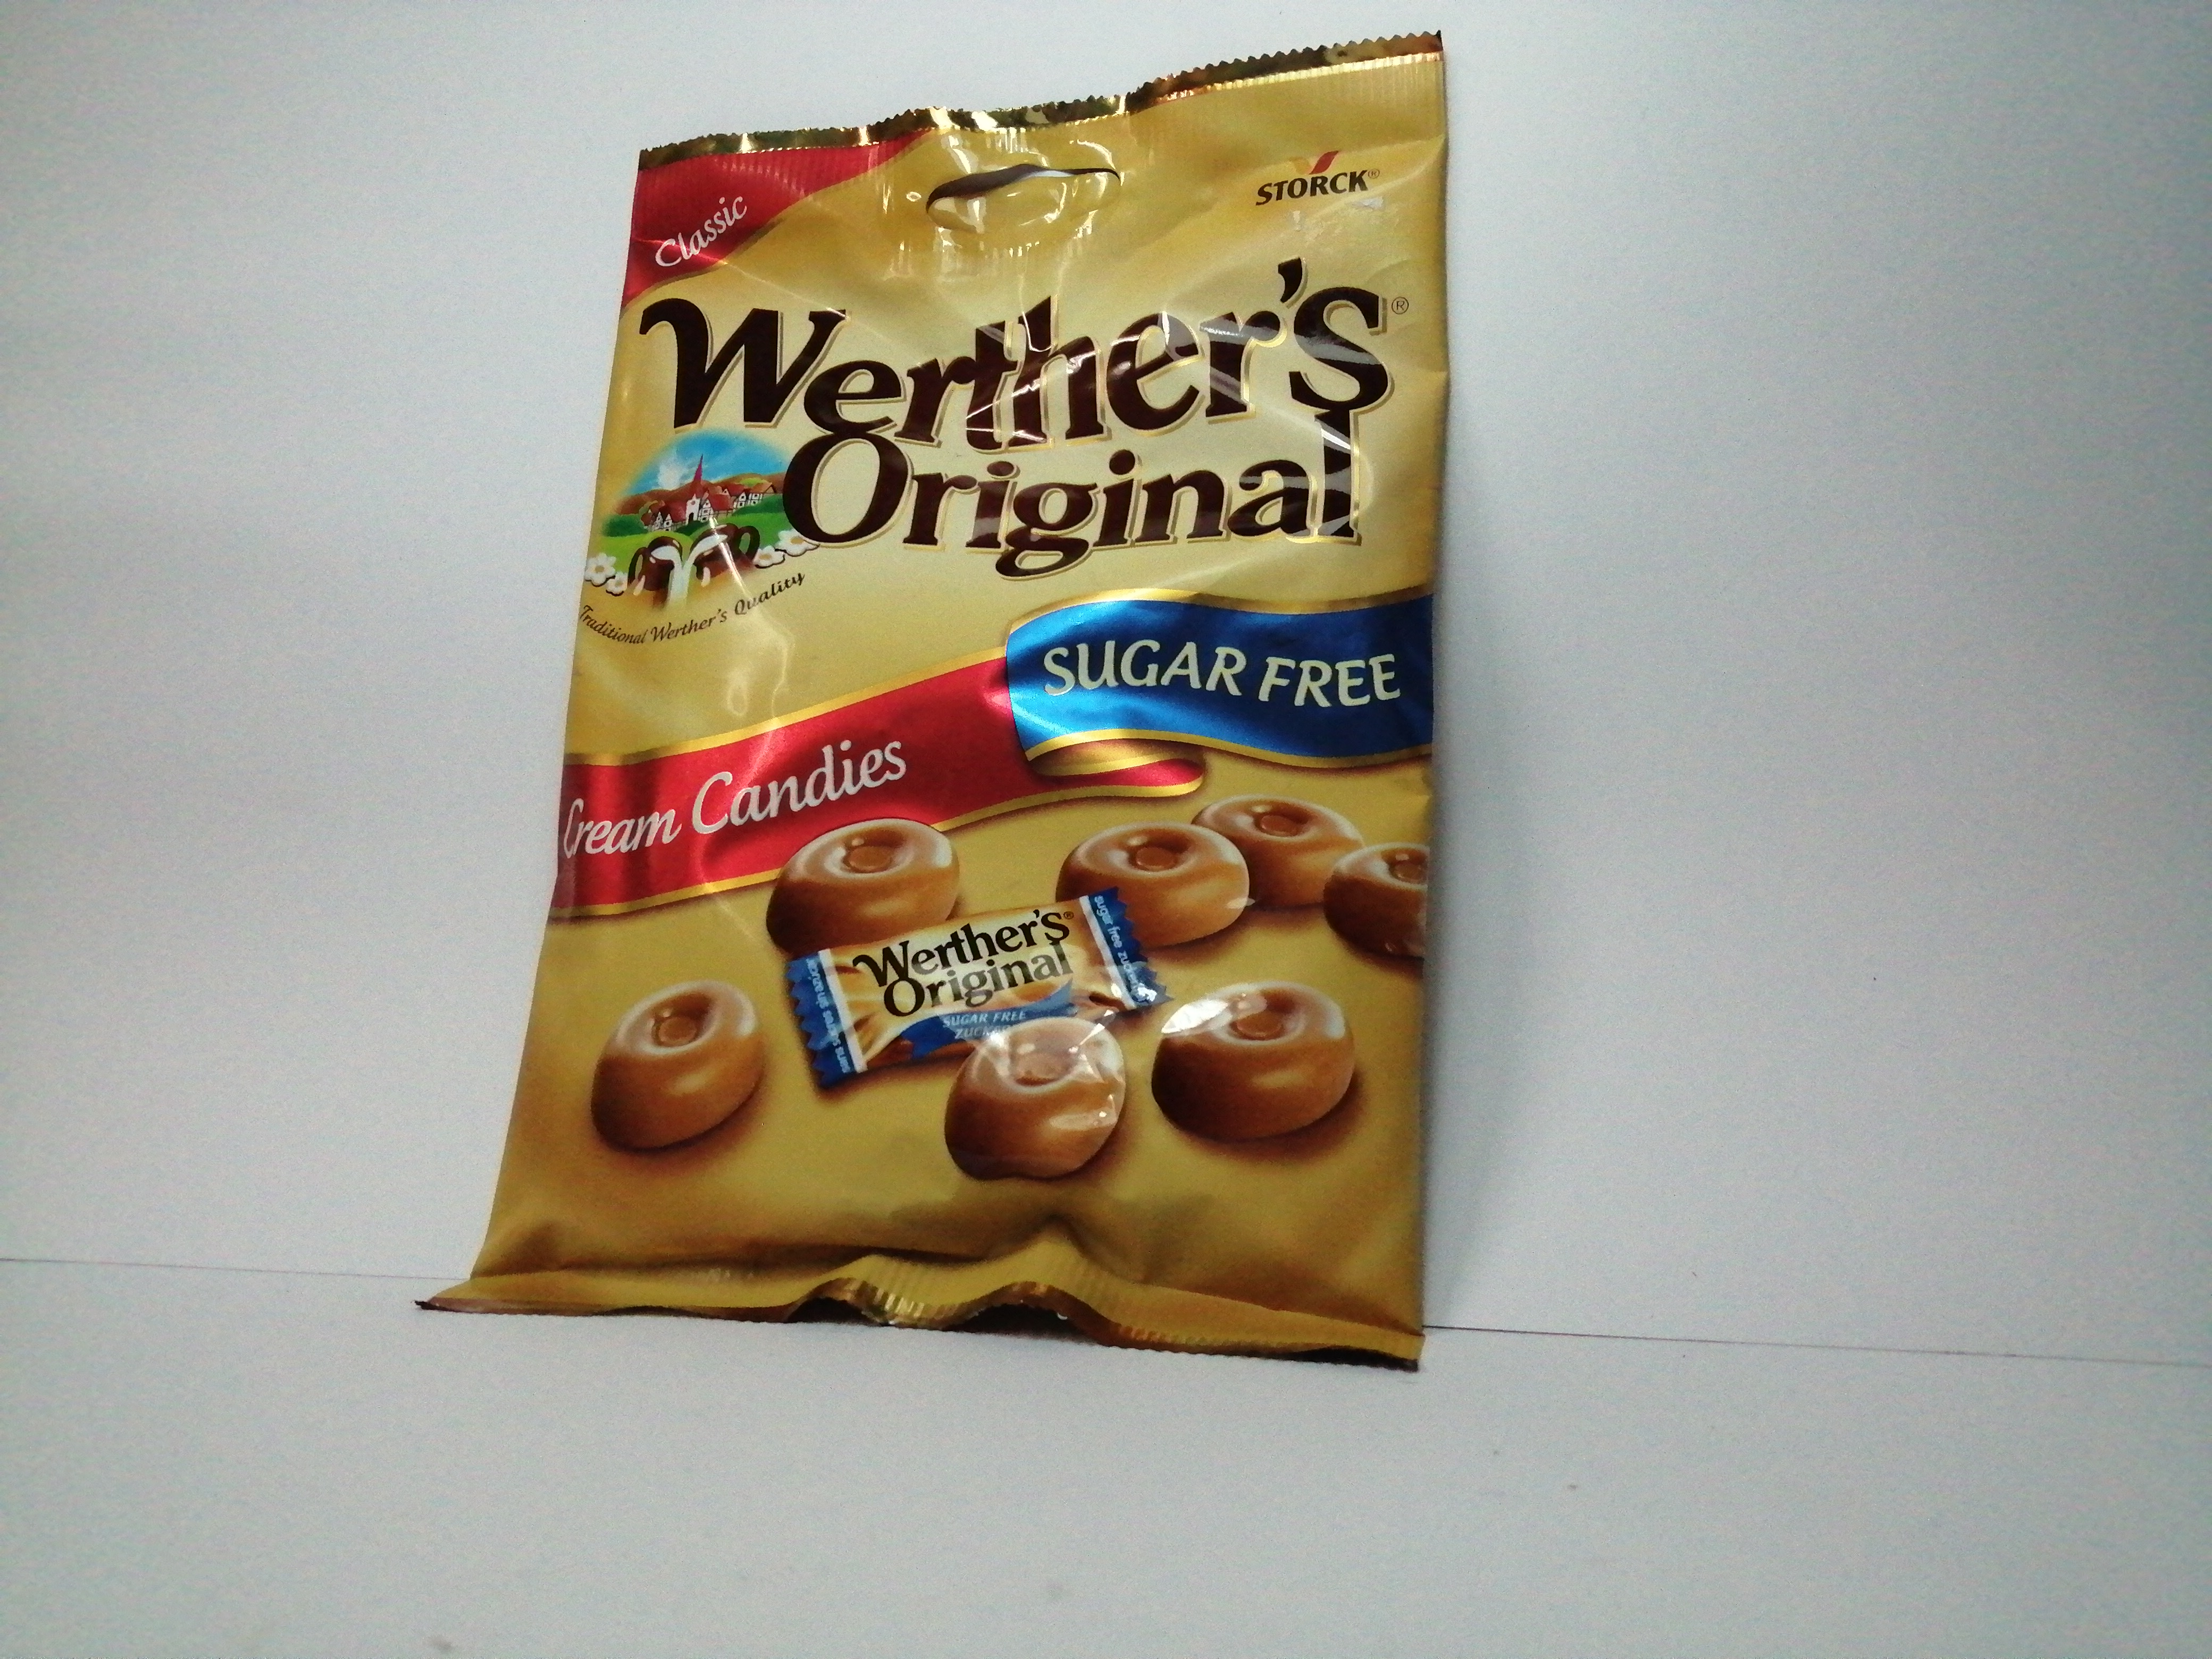dulces: (427, 30, 1449, 1373)
